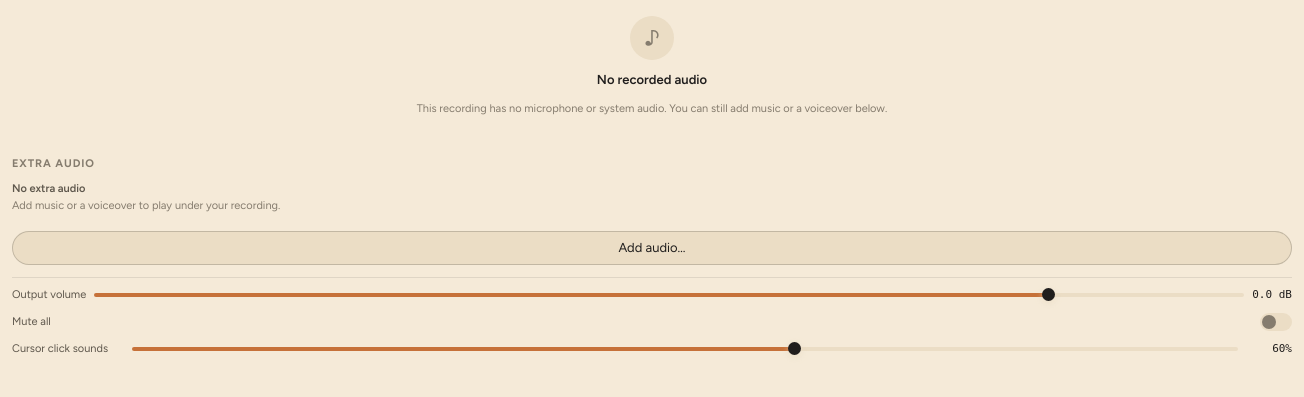
Test case: Audio tab › reports import failures
Click the button "Add audio…".
click(652, 248)  # box [12, 231, 1292, 265]
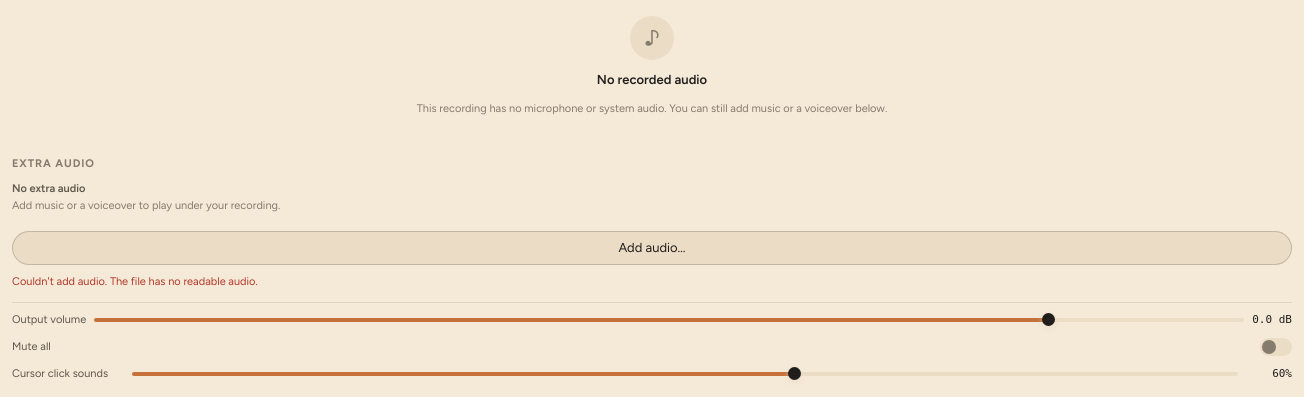
Now the message "Couldn't add audio. The file has no readable audio." is shown, box [12, 275, 258, 288]
